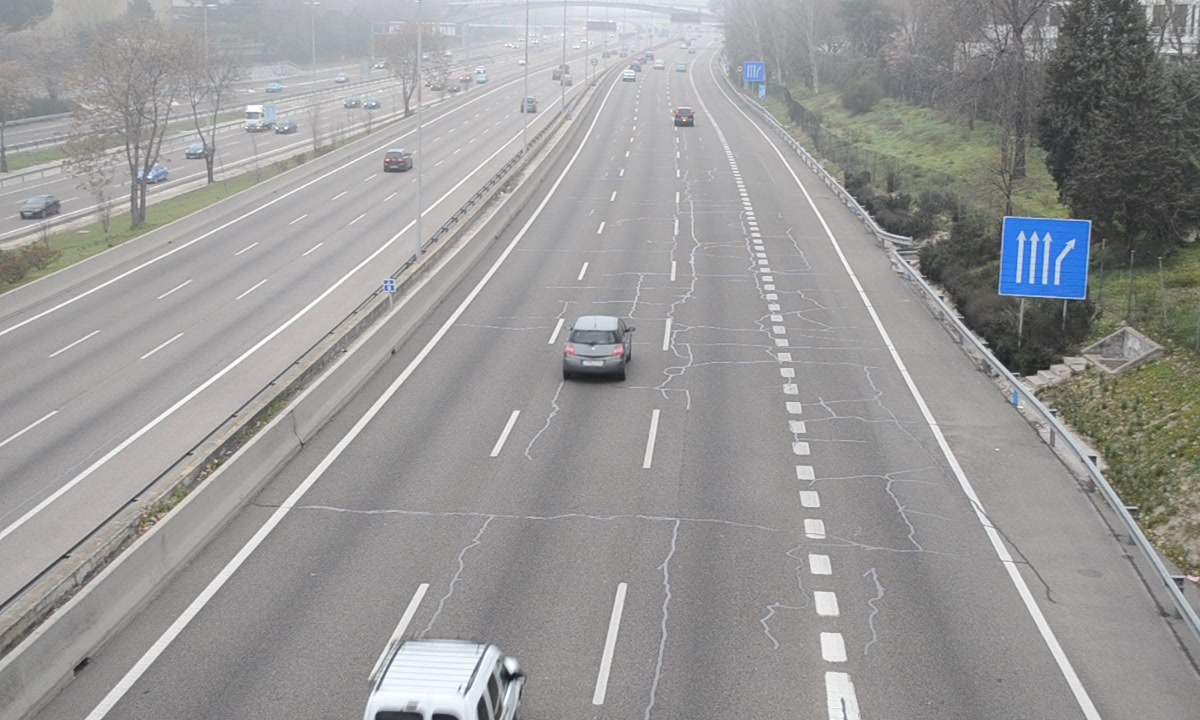car: (564, 315, 632, 377), (673, 105, 697, 129)
